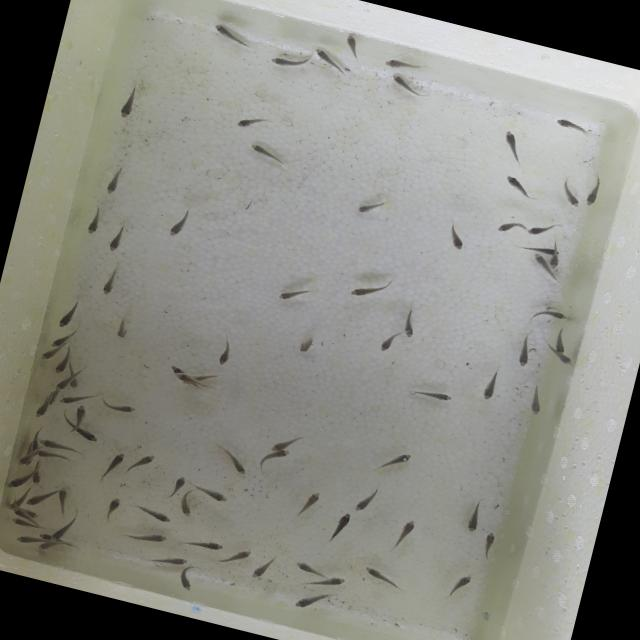fingerling: (382, 70, 438, 108), (110, 74, 148, 128), (286, 581, 336, 619), (494, 168, 544, 204), (208, 20, 260, 54), (546, 108, 598, 142), (368, 442, 415, 479), (346, 270, 394, 306), (435, 213, 476, 255), (378, 50, 435, 80), (492, 125, 532, 167), (285, 483, 324, 526), (347, 190, 396, 224), (404, 379, 459, 409), (210, 441, 254, 478), (307, 44, 352, 80), (242, 138, 292, 170), (162, 200, 198, 244), (358, 562, 407, 592), (118, 523, 171, 550), (440, 566, 476, 605), (99, 157, 132, 199), (95, 446, 128, 488), (267, 46, 313, 76), (386, 512, 418, 554), (274, 278, 316, 309), (477, 360, 506, 404), (123, 446, 157, 482), (580, 169, 608, 212), (130, 500, 176, 526), (352, 479, 384, 516), (212, 332, 243, 370), (80, 201, 110, 239), (180, 532, 227, 556), (96, 262, 124, 302), (326, 506, 354, 546), (230, 108, 269, 136), (102, 219, 130, 258), (554, 176, 586, 210), (511, 330, 538, 370), (521, 379, 549, 417), (474, 526, 500, 566), (248, 552, 280, 584), (54, 296, 82, 332), (98, 394, 140, 418), (338, 28, 368, 61), (372, 326, 402, 359), (98, 492, 126, 527), (492, 213, 528, 240), (530, 302, 570, 326), (462, 494, 486, 534), (286, 556, 326, 580), (222, 542, 256, 570), (37, 436, 84, 456), (105, 310, 134, 341), (24, 484, 56, 512), (526, 215, 560, 241), (148, 547, 190, 568), (173, 564, 199, 594), (196, 484, 232, 504), (164, 472, 188, 502), (520, 241, 562, 258), (400, 306, 421, 340), (174, 489, 198, 518), (33, 386, 53, 419), (34, 447, 72, 464), (52, 484, 72, 515), (4, 471, 29, 492), (322, 571, 348, 591), (552, 326, 570, 354), (296, 333, 318, 355), (10, 530, 38, 547), (551, 350, 577, 368), (70, 402, 89, 426), (75, 426, 100, 444), (528, 250, 550, 268), (58, 390, 80, 408), (51, 356, 70, 376), (8, 515, 32, 529), (35, 538, 55, 554), (172, 370, 194, 384), (36, 347, 54, 364), (544, 252, 560, 271), (15, 451, 32, 468), (49, 527, 66, 544), (8, 506, 29, 519), (48, 334, 64, 351), (52, 378, 70, 392), (275, 447, 291, 460), (167, 363, 185, 374), (29, 472, 43, 486), (26, 508, 42, 520), (268, 440, 282, 453), (68, 376, 80, 391), (37, 529, 51, 540)
